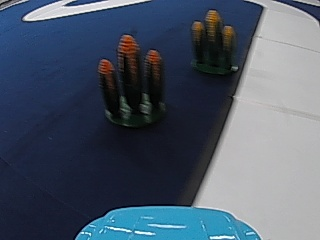corn: (98, 35, 167, 130), (191, 6, 237, 76)
